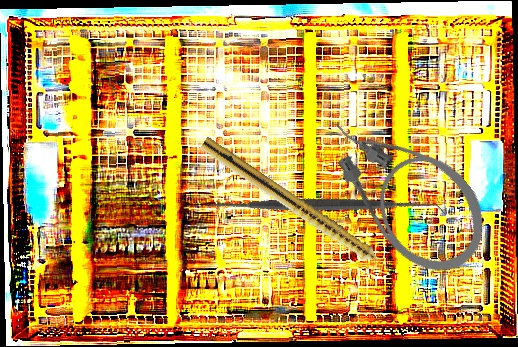Cannula: (310, 83, 506, 293)
Handpiece: (196, 135, 399, 281)
Spatula Surgical: (199, 82, 446, 328)
